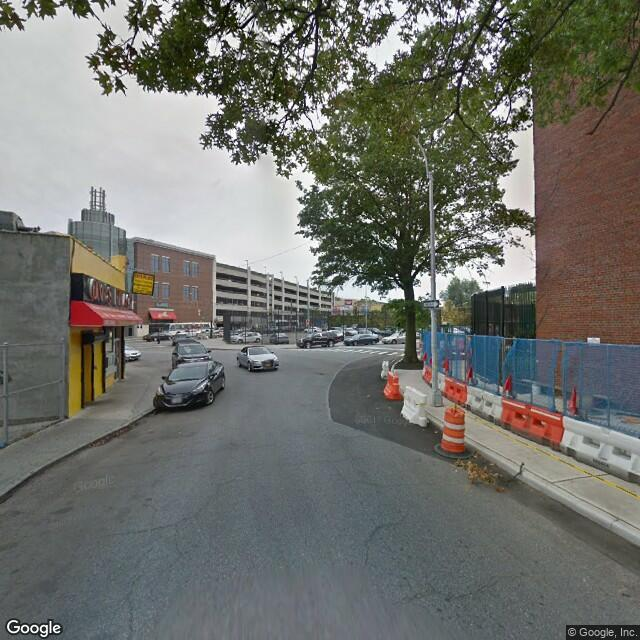litter: (448, 455, 516, 490)
